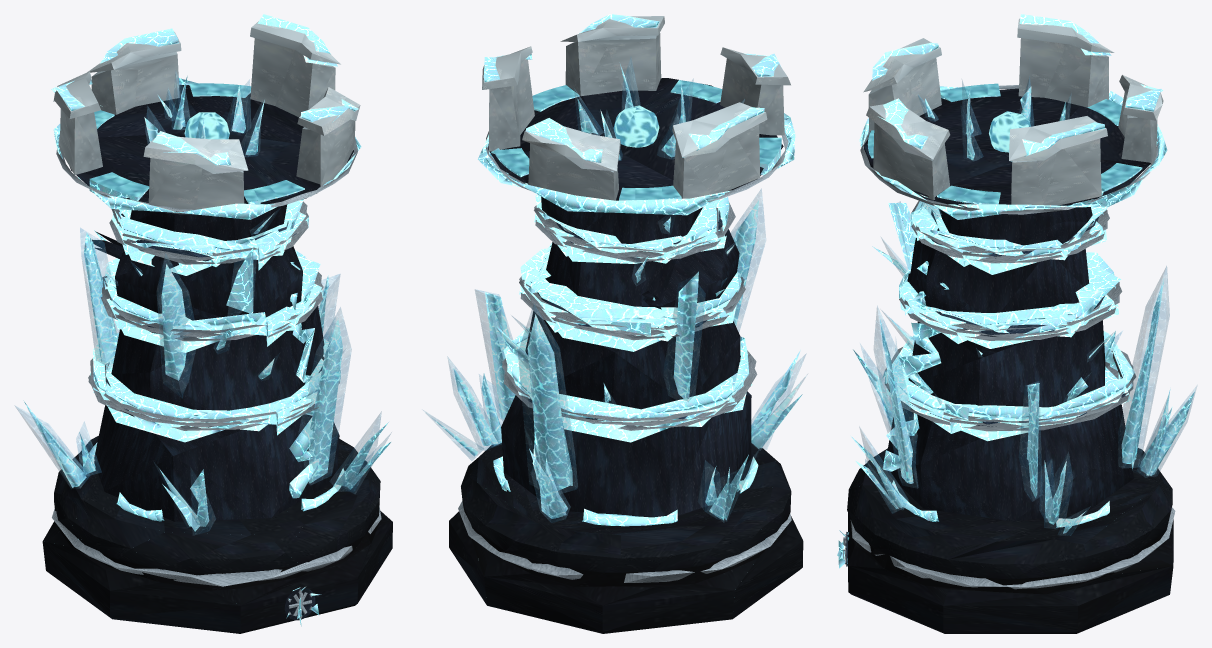
The model's file is rime_rook_fragments.glb.
The picture shows the model from 3 angles, left to right: view 1: azimuth 30°, elevation 25°; view 2: azimuth 150°, elevation 25°; view 3: azimuth 270°, elevation 25°; orthographic projection.
Parts seen in each view (by area): view 1: frag_007, frag_029, frag_021, frag_014, frag_016, frag_019, frag_013, frag_026, frag_006, frag_027, frag_008, frag_025 (+12 smaller); view 2: frag_009, frag_029, frag_007, frag_019, frag_006, frag_014, frag_027, frag_011, frag_020, frag_004, frag_008, frag_024 (+11 smaller); view 3: frag_021, frag_029, frag_007, frag_019, frag_008, frag_014, frag_004, frag_011, frag_009, frag_024, frag_013, frag_020 (+11 smaller).
Part boxes in pixels (x1,y1,x2,y2): frag_007: (94, 405, 339, 521); frag_029: (90, 274, 340, 429); frag_021: (239, 439, 392, 633); frag_014: (70, 84, 353, 214); frag_016: (42, 518, 240, 633); frag_019: (100, 246, 323, 352); frag_013: (53, 129, 282, 219); frag_026: (131, 462, 304, 605); frag_006: (80, 228, 321, 370); frag_027: (88, 28, 251, 129); frag_008: (54, 14, 361, 205); frag_025: (88, 253, 340, 442); frag_009: (465, 429, 776, 633); frag_029: (447, 289, 756, 450); frag_007: (501, 391, 751, 516); frag_019: (512, 229, 739, 351); frag_006: (519, 243, 745, 401); frag_014: (488, 58, 783, 200); frag_027: (494, 110, 681, 200); frag_011: (532, 14, 664, 111); frag_020: (518, 304, 615, 493); frag_004: (672, 102, 767, 198); frag_008: (478, 46, 688, 213); frag_024: (541, 79, 702, 243); frag_021: (847, 485, 1173, 633); frag_029: (882, 320, 1136, 528); frag_007: (884, 403, 1133, 521); frag_019: (899, 238, 1119, 362); frag_008: (860, 91, 1167, 219); frag_014: (863, 88, 1150, 215); frag_004: (1017, 14, 1114, 107); frag_011: (866, 98, 1000, 204); frag_009: (1105, 385, 1197, 574); frag_024: (938, 76, 1093, 245); frag_013: (859, 38, 1117, 149); frag_020: (1104, 266, 1169, 467).
Bounding box in the file's own units: 0.8466 × 1.23 × 0.8207.
Materials: 9 (9 with a texture image).
